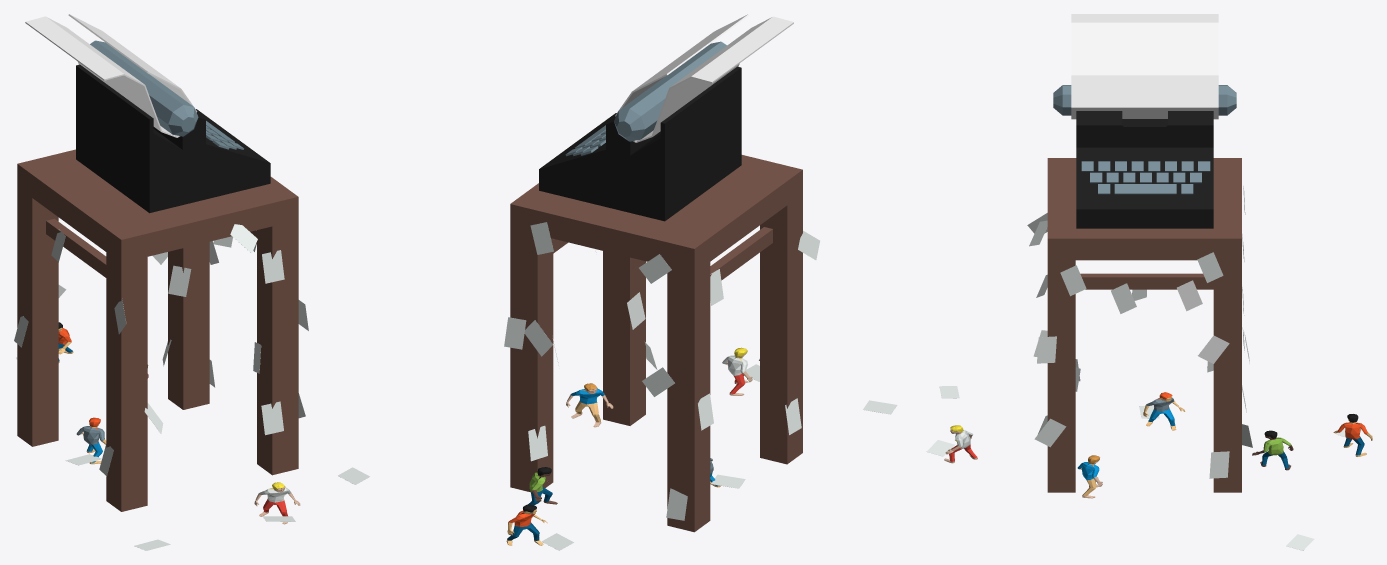
Rendered from knowledge-engine.obj.
3 renders of one model, left to right at view 1: azimuth 30°, elevation 25°; view 2: azimuth 150°, elevation 25°; view 3: azimuth 270°, elevation 25°, orthographic. The views are drawn at different scales.
Parts seen in each view (by area): view 1: Cube.025, mesh1560433603, mesh665560839, mesh1944677637, mesh1387487090, mesh618643285, mesh618643285.3, Human_Mesh_Human_CylinderMesh.1, Human_Mesh_Human_CylinderMesh.2, Box003.20, Box003.18, Box003.15 (+1 smaller); view 2: Cube.025, mesh1560433603, mesh1387487090, mesh665560839, mesh618643285, mesh1944677637, mesh618643285.3, Human_Mesh_Human_CylinderMesh.003, Human_Mesh_Human_CylinderMesh, Human_Mesh_Human_CylinderMesh.1; view 3: Cube.025, mesh1560433603, mesh618643285, mesh1944677637, mesh618643285.1, Human_Mesh_Human_CylinderMesh.3, Human_Mesh_Human_CylinderMesh, Human_Mesh_Human_CylinderMesh.2, Human_Mesh_Human_CylinderMesh.1, Human_Mesh_Human_CylinderMesh.003.
Part boxes in pixels (x1,y1,x2,y2): Cube.025: (25, 14, 270, 213); mesh1560433603: (17, 149, 298, 262); mesh665560839: (106, 234, 147, 511); mesh1944677637: (257, 197, 298, 475); mesh1387487090: (17, 187, 58, 446); mesh618643285: (168, 242, 209, 409); mesh618643285.3: (46, 218, 106, 277); Human_Mesh_Human_CylinderMesh.1: (254, 482, 300, 524); Human_Mesh_Human_CylinderMesh.2: (76, 417, 106, 464); Box003.20: (261, 401, 283, 435); Box003.18: (262, 250, 284, 283); Box003.15: (168, 265, 191, 296); Cube.025: (539, 14, 793, 221); mesh1560433603: (510, 155, 802, 272); mesh1387487090: (667, 243, 710, 532); mesh665560839: (760, 194, 802, 464); mesh618643285: (510, 228, 553, 492); mesh1944677637: (603, 251, 645, 425); mesh618643285.3: (710, 227, 772, 280); Human_Mesh_Human_CylinderMesh.003: (566, 383, 613, 427); Human_Mesh_Human_CylinderMesh: (506, 504, 547, 545); Human_Mesh_Human_CylinderMesh.1: (722, 347, 752, 395); Cube.025: (1053, 14, 1236, 228); mesh1560433603: (1047, 158, 1241, 260); mesh618643285: (1213, 239, 1241, 492); mesh1944677637: (1047, 239, 1075, 492); mesh618643285.1: (1080, 273, 1213, 289); Human_Mesh_Human_CylinderMesh.3: (1252, 430, 1293, 470); Human_Mesh_Human_CylinderMesh: (1333, 414, 1372, 456); Human_Mesh_Human_CylinderMesh.2: (1143, 392, 1185, 430); Human_Mesh_Human_CylinderMesh.1: (944, 425, 977, 463); Human_Mesh_Human_CylinderMesh.003: (1077, 455, 1102, 498).
Bounding box in the file's own units: 1.48 × 1.73 × 1.77.
